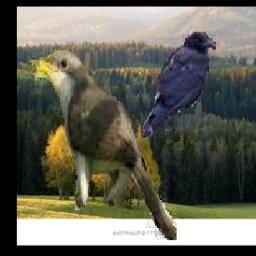Crow: (141, 32, 216, 138)
Cuckoo: (27, 51, 176, 241)
